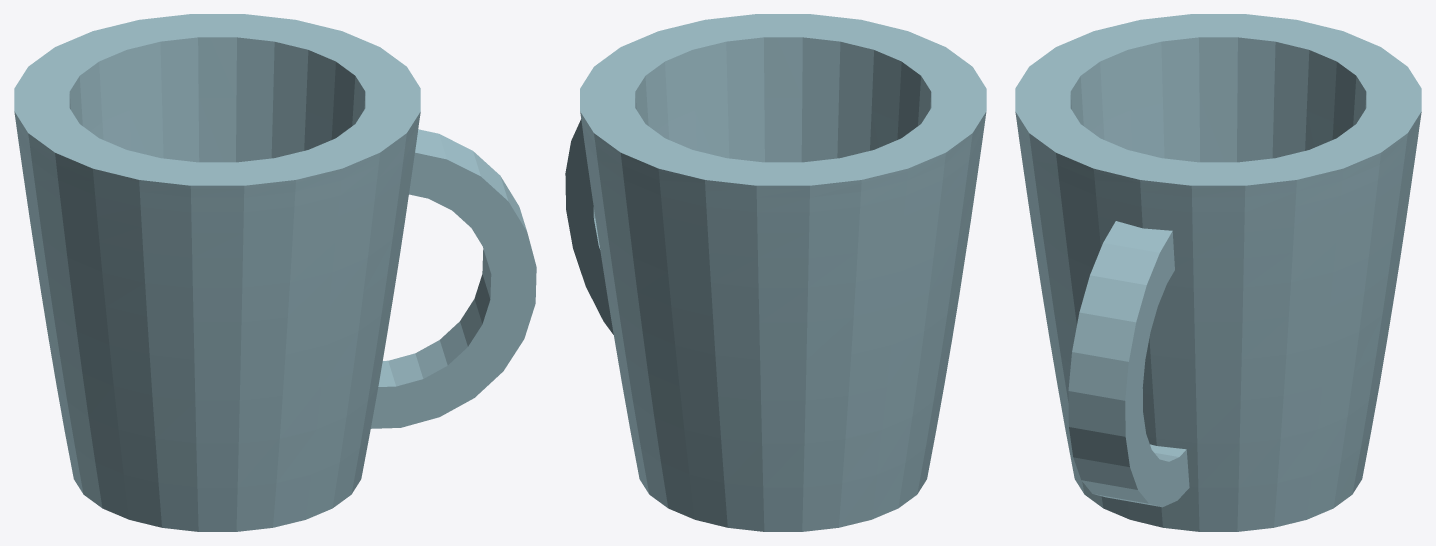
File: mug.glb
3 renders of one model, left to right at view 1: azimuth 30°, elevation 25°; view 2: azimuth 150°, elevation 25°; view 3: azimuth 270°, elevation 25°, orthographic.
Parts seen in each view (by area): view 1: Mesh_Mesh_head_geo.001_lambert2SG.001; view 2: Mesh_Mesh_head_geo.001_lambert2SG.001; view 3: Mesh_Mesh_head_geo.001_lambert2SG.001.
Boxes of the visible parts, <box> form: Mesh_Mesh_head_geo.001_lambert2SG.001: <box>14,14,536,531</box>; Mesh_Mesh_head_geo.001_lambert2SG.001: <box>565,14,986,531</box>; Mesh_Mesh_head_geo.001_lambert2SG.001: <box>1015,14,1421,531</box>.
Size of the model in its own units: 3.02 by 2.43 by 2.41.
